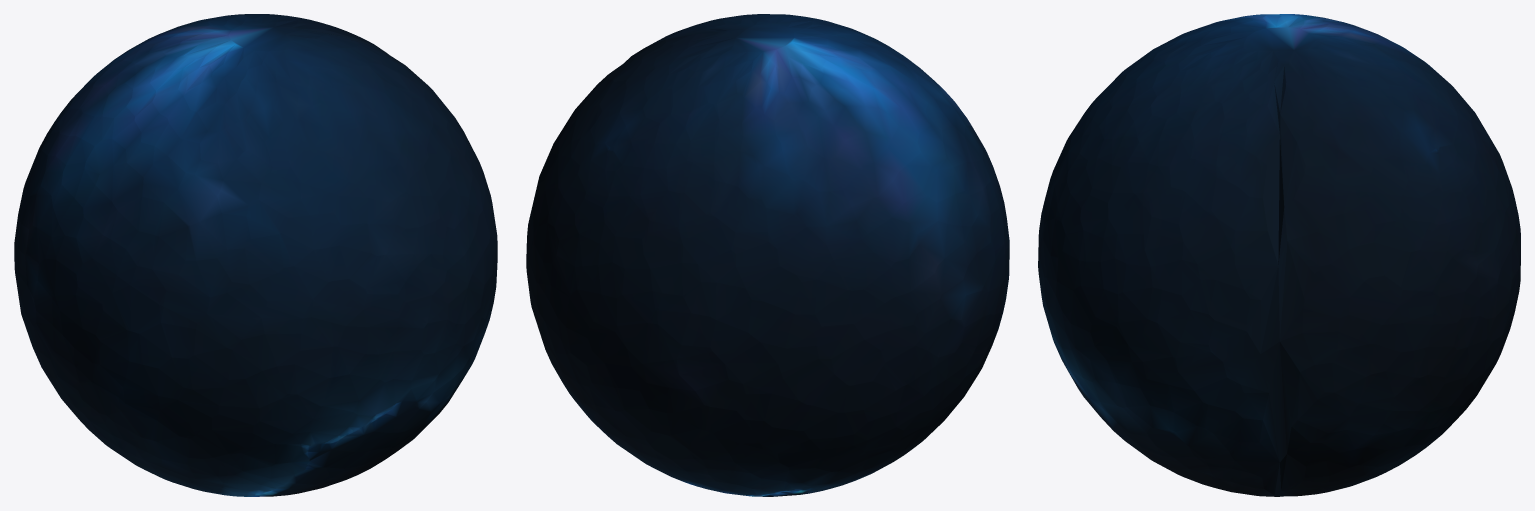
The model's file is blue_sphere.fbx.
3 views of the same model, side by side, from view 1: azimuth 30°, elevation 25°; view 2: azimuth 150°, elevation 25°; view 3: azimuth 270°, elevation 25° (orthographic).
Visible parts, largest first — view 1: Curve.3309; view 2: Curve.3309; view 3: Curve.3309.
Boxes of the visible parts, left/top/right/bottom form: Curve.3309: left=14, top=14, right=497, bottom=496; Curve.3309: left=526, top=14, right=1009, bottom=496; Curve.3309: left=1038, top=14, right=1520, bottom=496.
Size of the model in its own units: 691 by 689 by 691.
